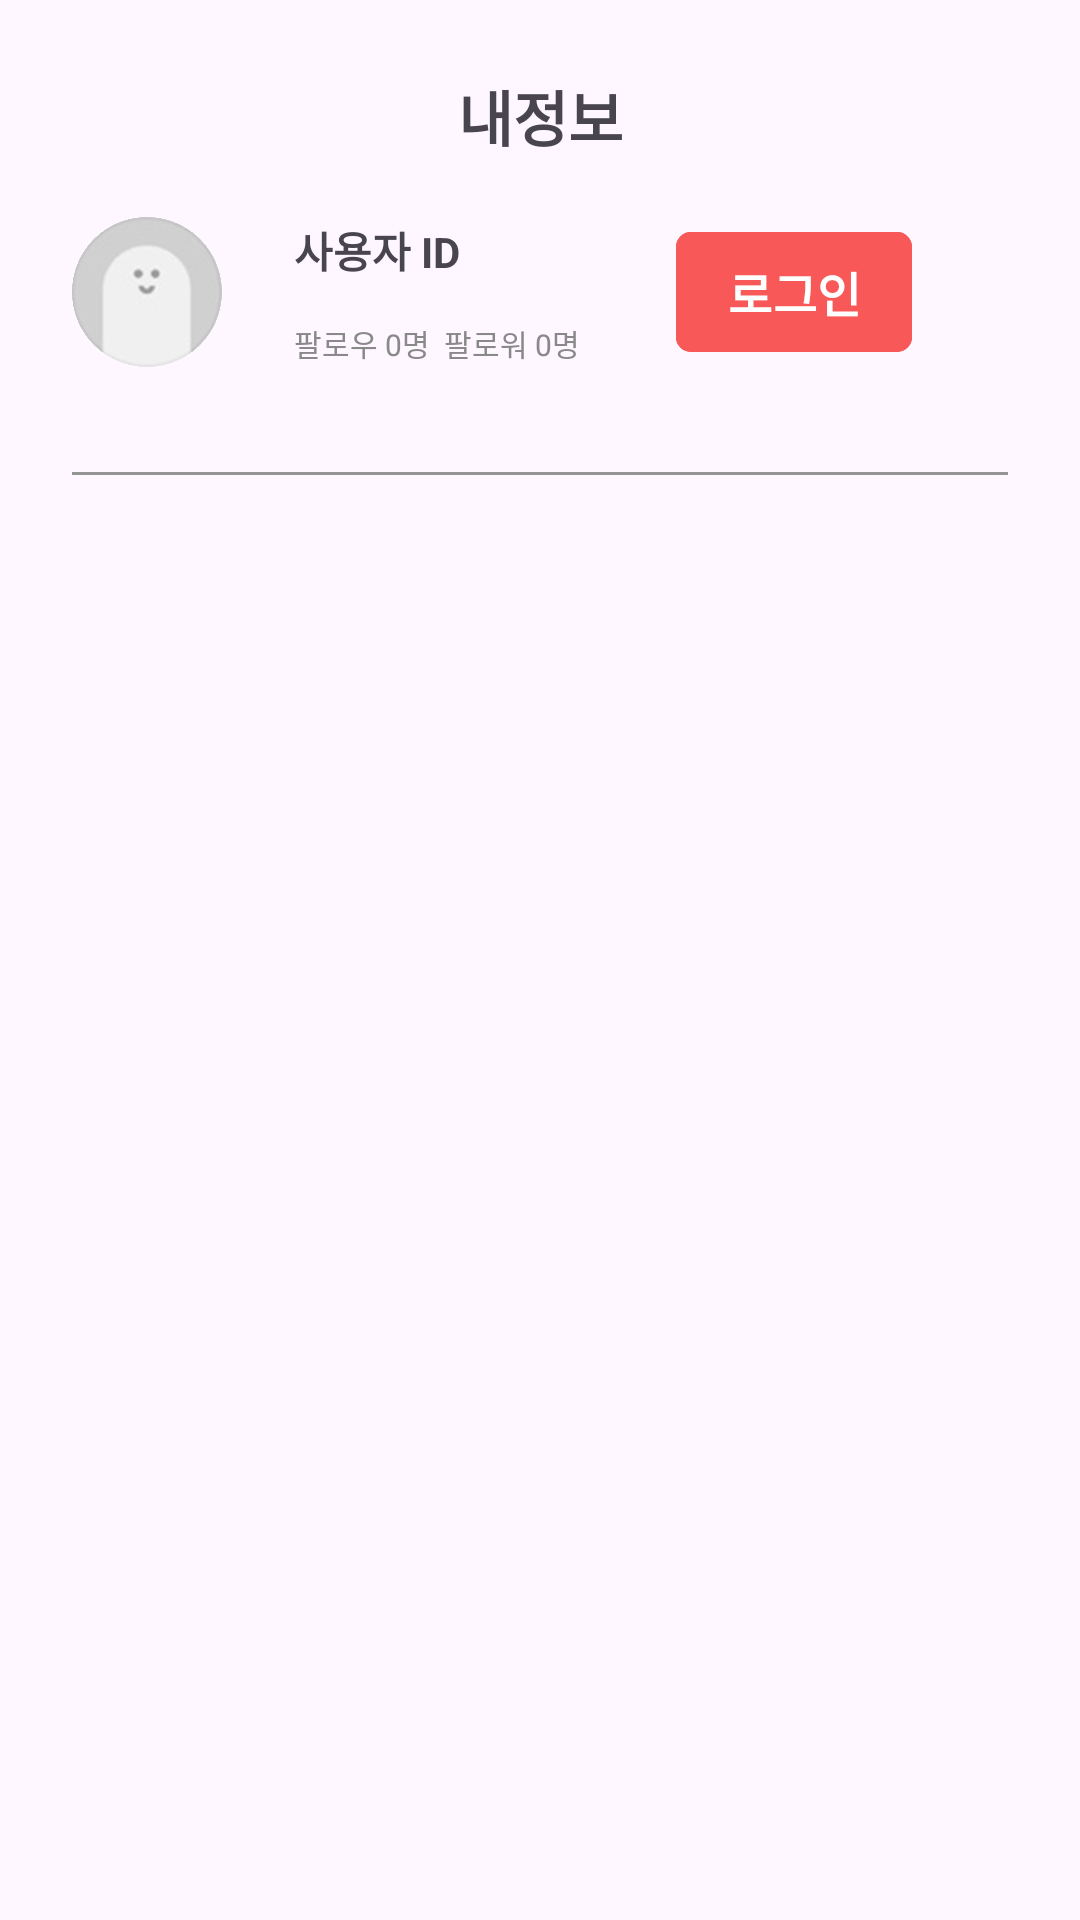

Icons on this 1080px x 1920px Android screen, each with its box as (x1=x1, y1=y1, x2=x2, y2=y2):
profile: (x1=72, y1=217, x2=222, y2=367)
